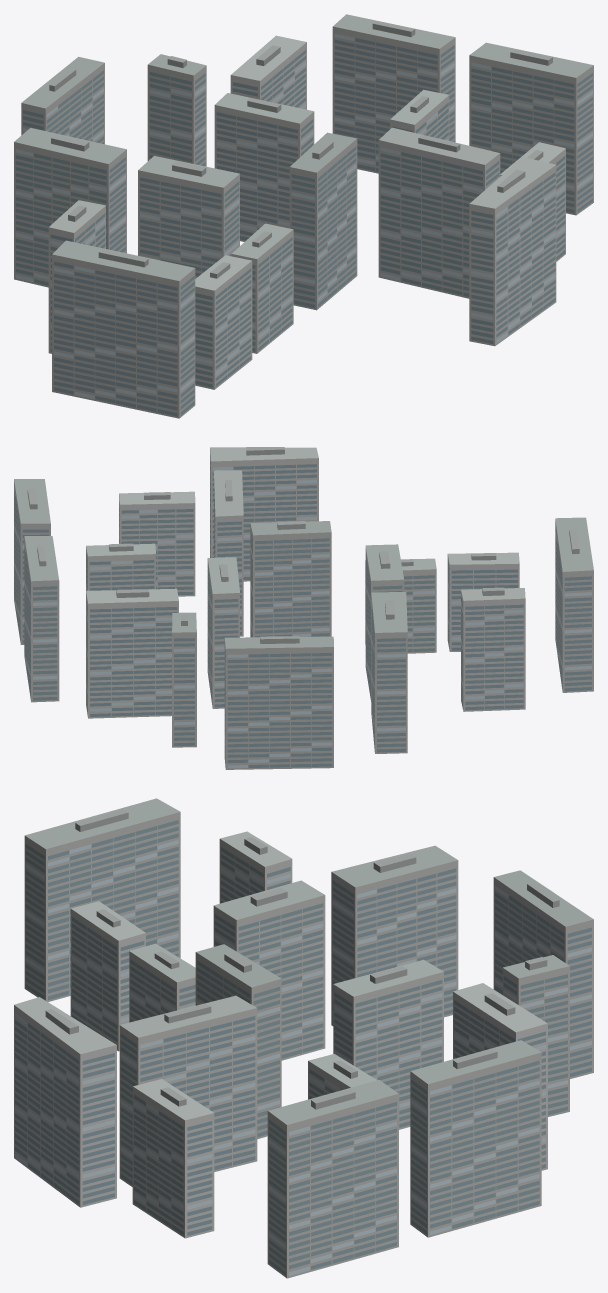
Rendered from apt-a13082805.glb.
3 renders of one model, top to bottom at view 1: azimuth 30°, elevation 25°; view 2: azimuth 150°, elevation 25°; view 3: azimuth 270°, elevation 25°, orthographic. The views are drawn at different scales.
Parts seen in each view (by area): view 1: apt-a13082805; view 2: apt-a13082805; view 3: apt-a13082805.
Boxes of the visible parts, x1,y1,x2,y2 form: apt-a13082805: (14, 14, 593, 418); apt-a13082805: (14, 447, 593, 769); apt-a13082805: (14, 798, 593, 1278).
Size of the model in its own units: 272 by 62 by 204.
